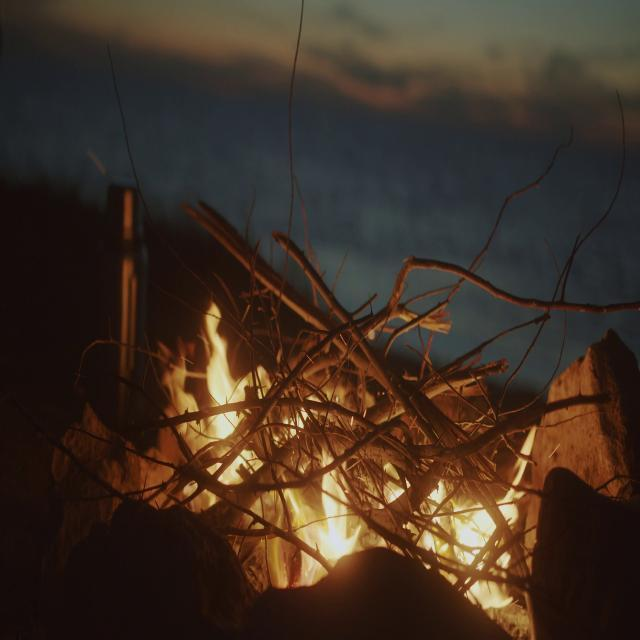Fire: (189, 299, 354, 591), (382, 465, 537, 621)
